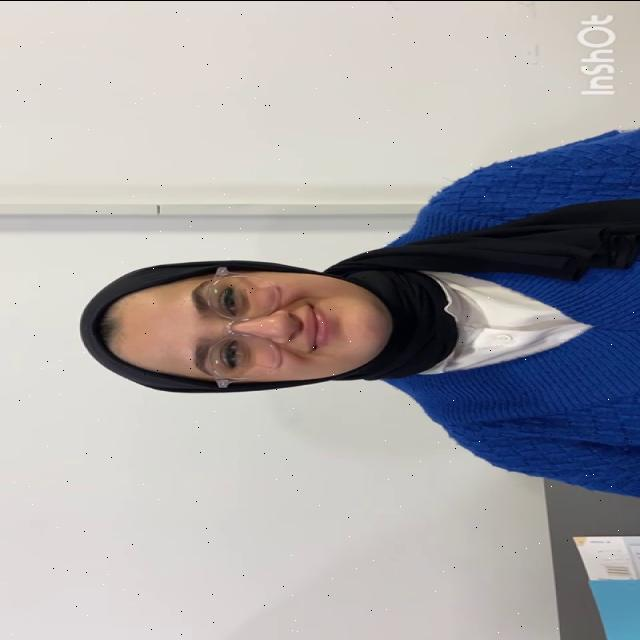happy: (112, 258, 393, 394)
